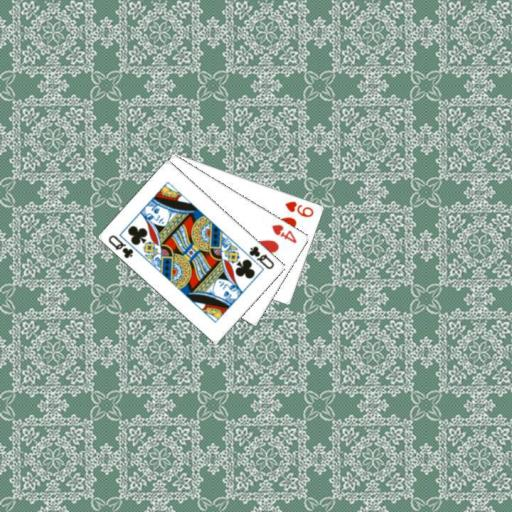4H: (269, 221, 299, 245)
9H: (282, 198, 315, 218)
QC: (246, 242, 276, 271), (105, 232, 135, 259)
